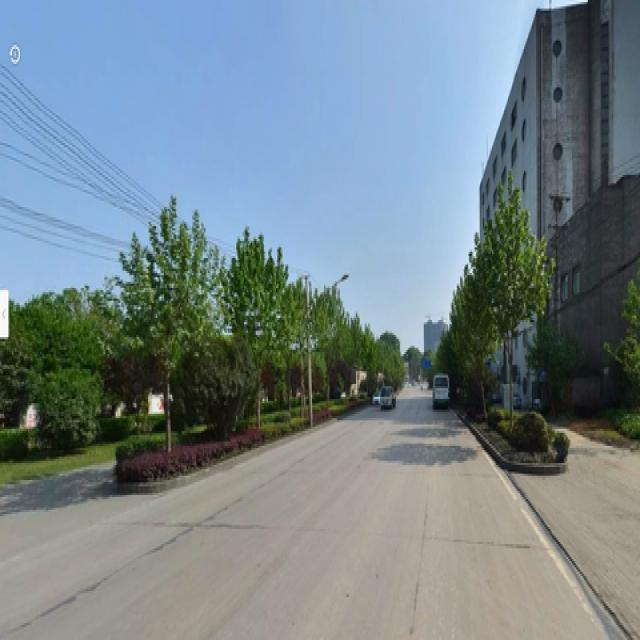meta: (113, 196, 220, 459)
